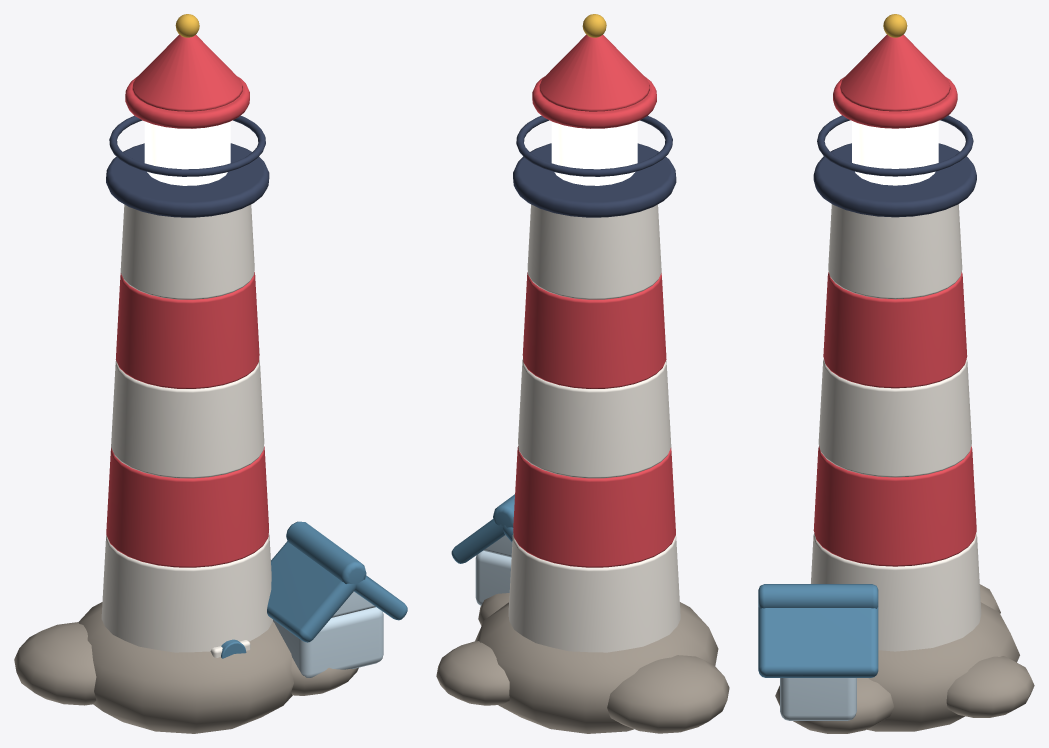
3 renders of one model, left to right at view 1: azimuth 30°, elevation 25°; view 2: azimuth 150°, elevation 25°; view 3: azimuth 270°, elevation 25°, orthographic.
Parts seen in each view (by area): view 1: Sphere; view 2: Sphere; view 3: Sphere.
Part boxes in pixels (x1,y1,x2,y2): Sphere: (14,14,407,733); Sphere: (436,14,729,733); Sphere: (758,14,1034,733).
Bounding box in the file's own units: 0.7164 × 1.6 × 0.575.
